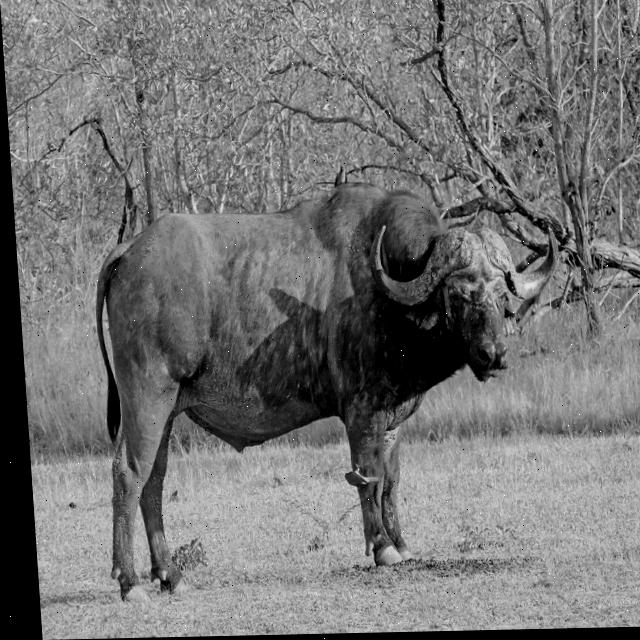Buffalo: (84, 180, 580, 604)
